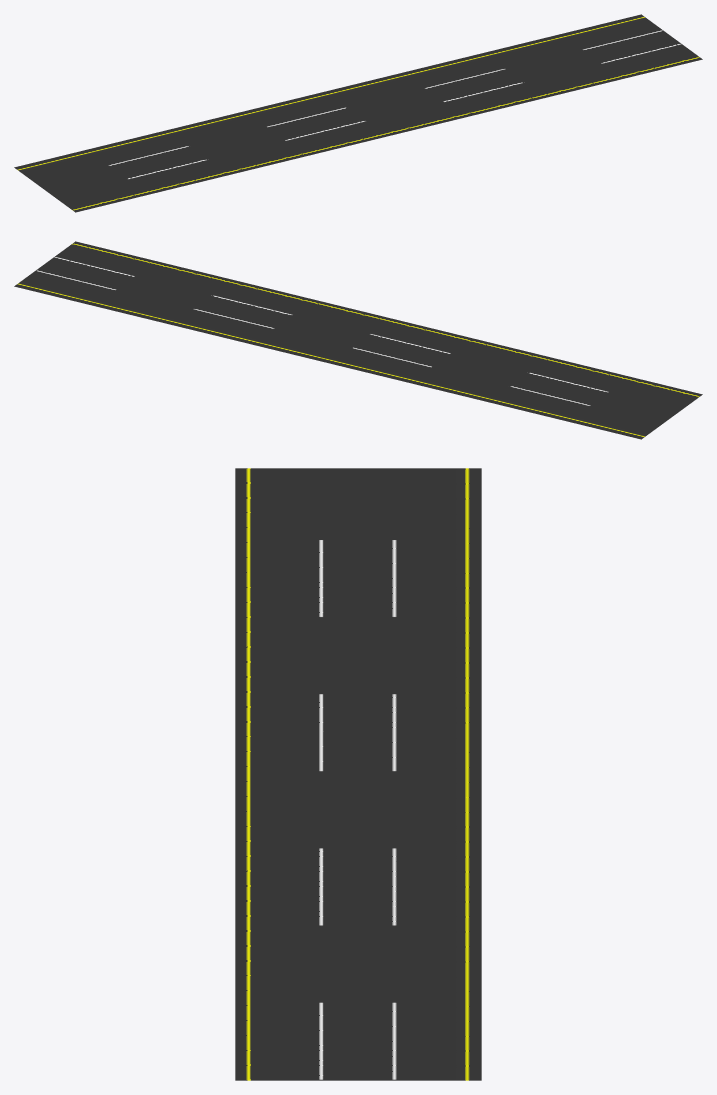
Rendered from straight100.dae.
3 views of the same model, one above another, from view 1: azimuth 30°, elevation 25°; view 2: azimuth 150°, elevation 25°; view 3: azimuth 270°, elevation 25° (orthographic). The views are drawn at different scales.
Parts seen in each view (by area): view 1: Plane; view 2: Plane; view 3: Plane.
Part boxes in pixels (left/top/right/bottom): Plane: left=14, top=14, right=702, bottom=212; Plane: left=14, top=241, right=702, bottom=439; Plane: left=235, top=468, right=481, bottom=1080.
Size of the model in its own units: 100 by 17 by 0.
Materials: 1 (1 with a texture image).
